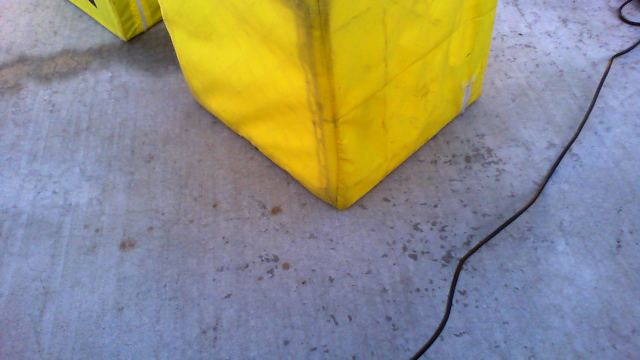cube: (154, 1, 499, 213)
